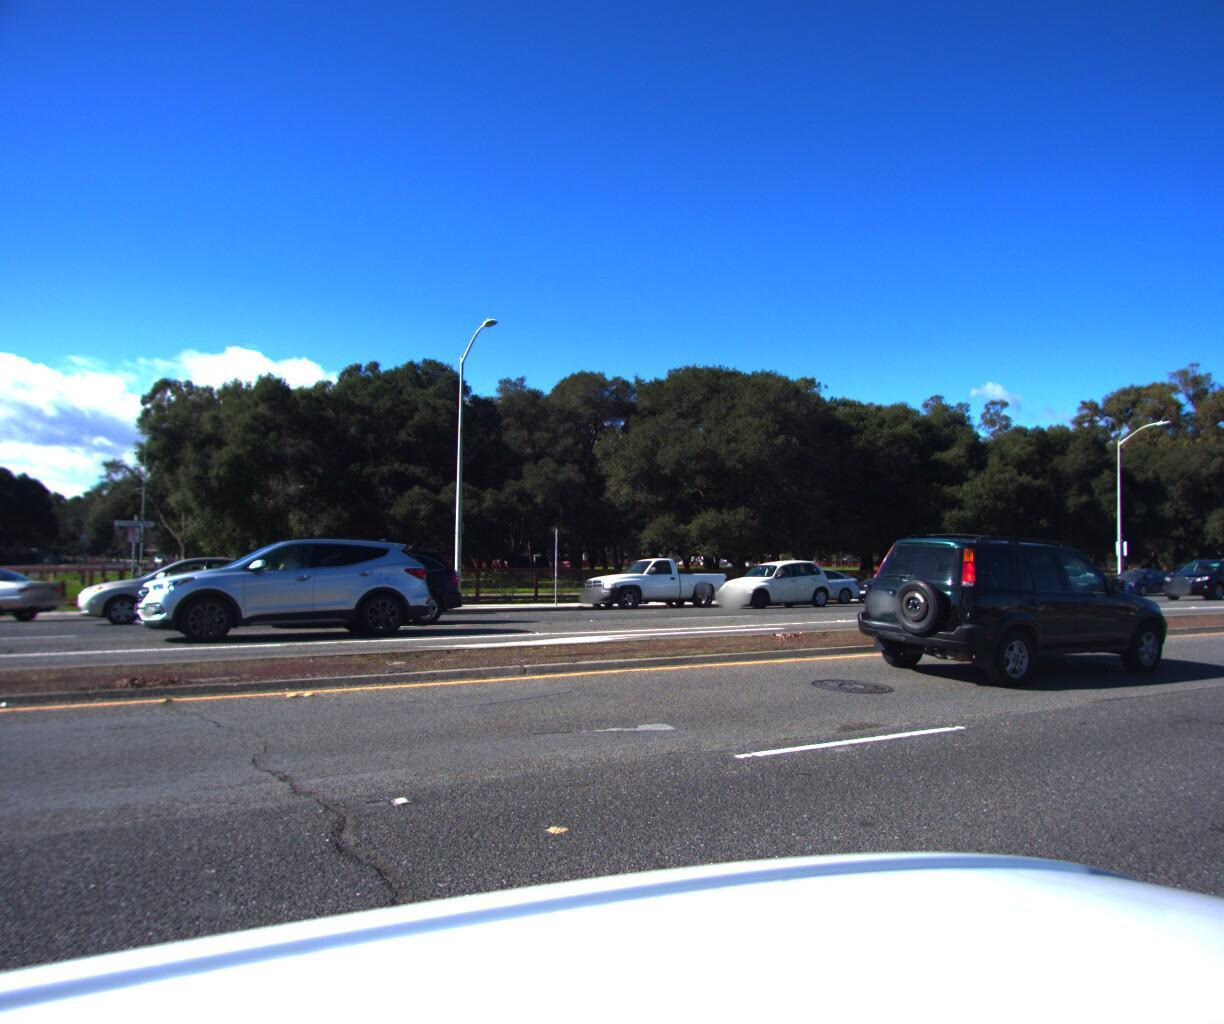car: (840, 524, 1191, 692), (122, 532, 444, 648), (204, 536, 470, 623), (58, 554, 295, 625), (573, 551, 735, 607), (703, 555, 841, 606), (0, 566, 84, 628), (986, 561, 1112, 600), (748, 564, 863, 604), (1154, 553, 1224, 595), (1095, 563, 1177, 594)
other_vehicle: (1212, 538, 1224, 589)
